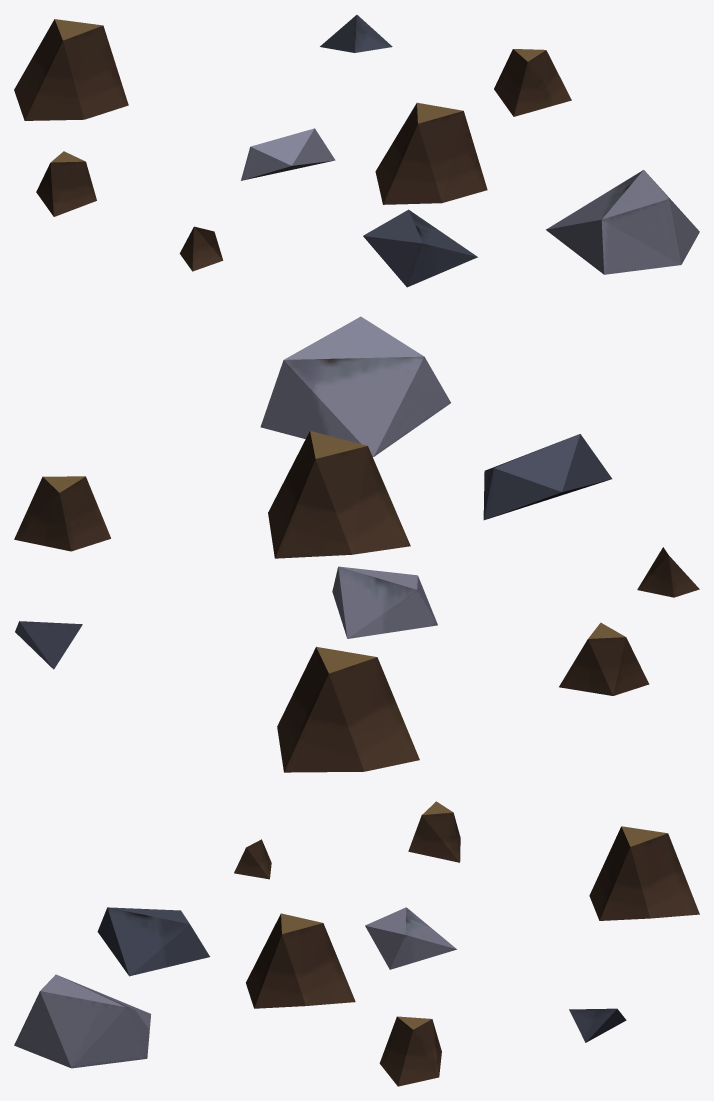
Rendered from tile_wood_6_ruin_lod2.fbx.
3 views of the same model, one above another, from view 1: azimuth 30°, elevation 25°; view 2: azimuth 150°, elevation 25°; view 3: azimuth 270°, elevation 25° (orthographic). The views are drawn at different scales.
Visible parts, largest first — view 1: wood_6_ruin_LOD2; view 2: wood_6_ruin_LOD2; view 3: wood_6_ruin_LOD2.
Part boxes in pixels (bbox=[...]): wood_6_ruin_LOD2: bbox=[14, 15, 699, 287]; wood_6_ruin_LOD2: bbox=[14, 316, 699, 772]; wood_6_ruin_LOD2: bbox=[14, 801, 699, 1086].
Bounding box in the file's own units: 0.0257 × 0.00357 × 0.0306.
